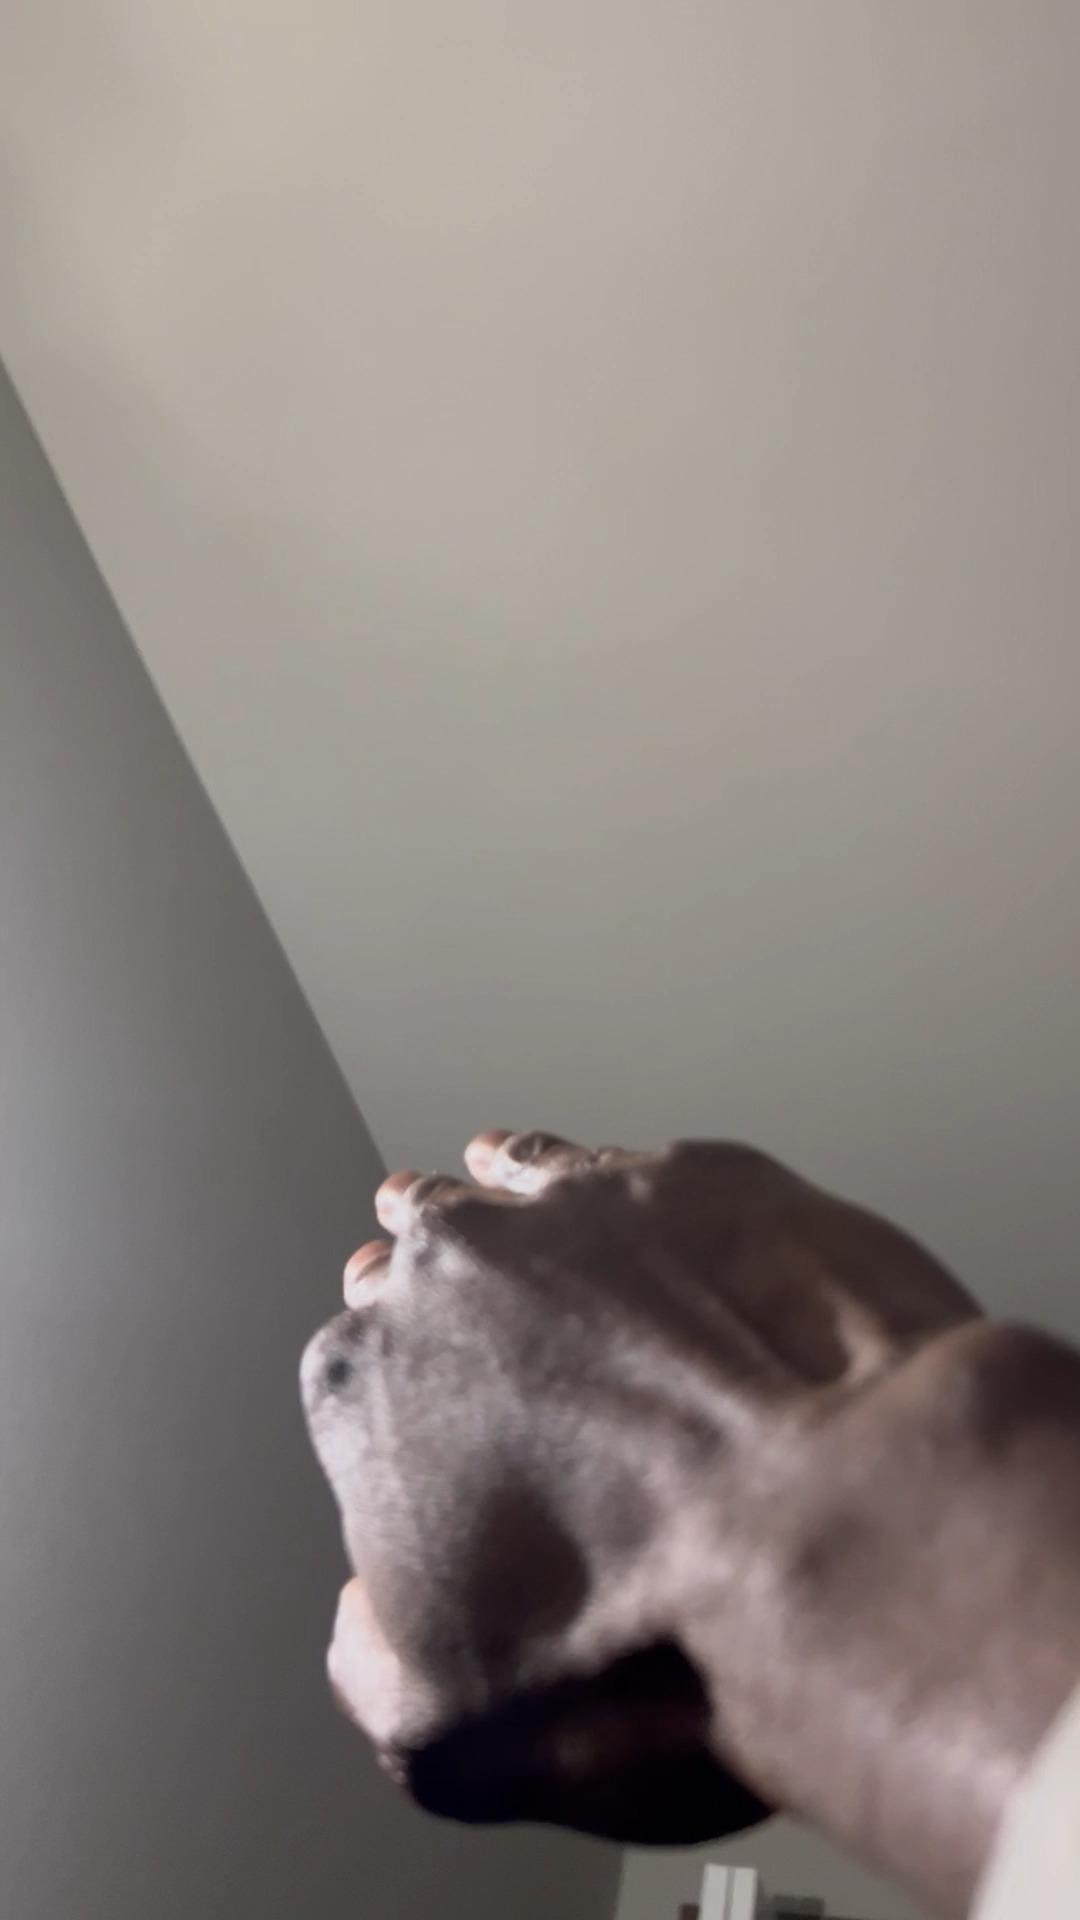Paper: (297, 1122, 1019, 1851)
